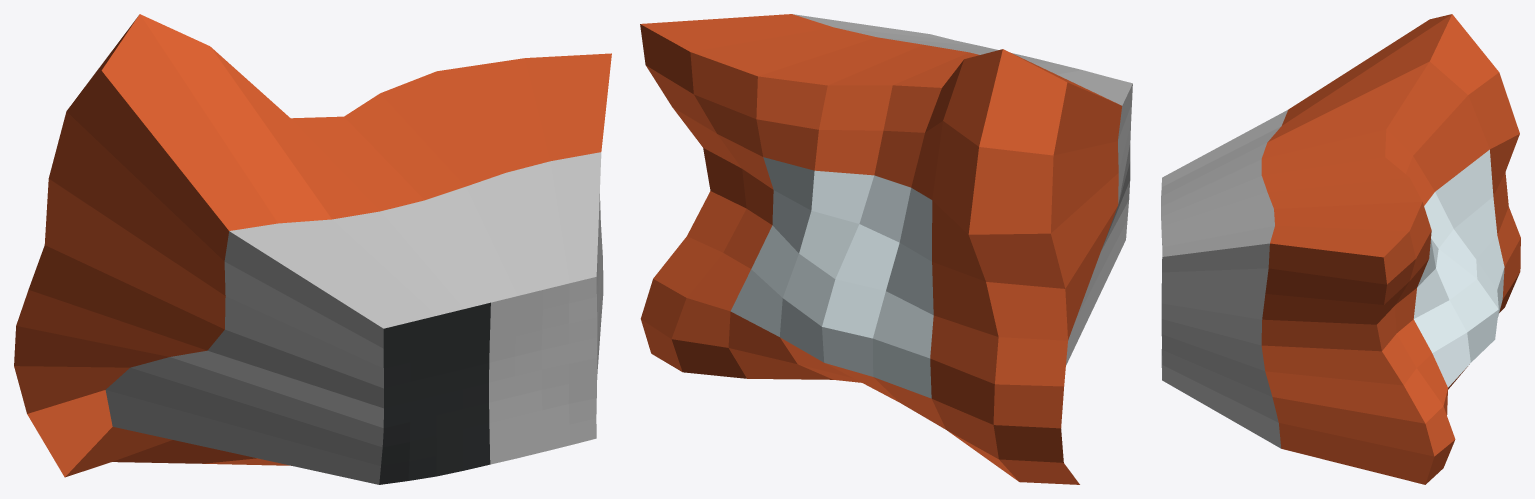
Rendered from muzzleflash.fbx.
3 renders of one model, left to right at view 1: azimuth 30°, elevation 25°; view 2: azimuth 150°, elevation 25°; view 3: azimuth 270°, elevation 25°, orthographic. The views are drawn at different scales.
Visible parts, largest first — view 1: muzzleflash; view 2: muzzleflash; view 3: muzzleflash.
Boxes of the visible parts, x1,y1,x2,y2 form: muzzleflash: (14, 14, 611, 484); muzzleflash: (640, 14, 1132, 484); muzzleflash: (1161, 14, 1520, 484).
Size of the model in its own units: 0.9254 by 0.7256 by 0.7575.
